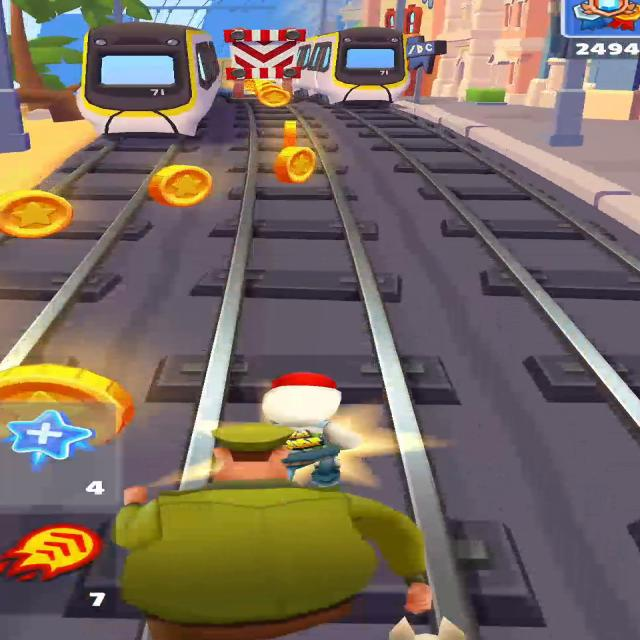jump-barrier: (225, 28, 306, 98)
police: (104, 420, 431, 638)
train: (76, 21, 226, 134), (304, 21, 424, 107)
